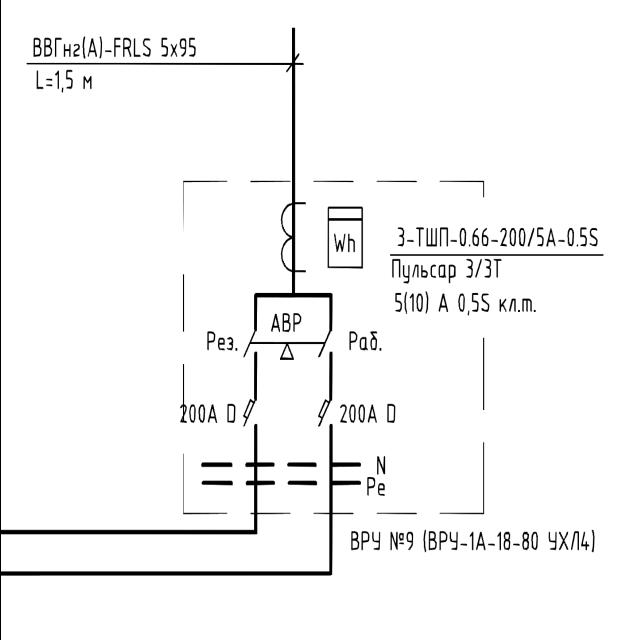-: (388, 226, 606, 320), (342, 520, 604, 562), (336, 396, 398, 436), (176, 398, 236, 434)
AVR: (267, 310, 303, 336)
QF: (240, 396, 260, 438), (314, 394, 334, 431)
QS: (316, 327, 334, 361), (242, 328, 260, 362)
TT: (278, 198, 308, 282)
WH: (326, 205, 364, 269)
